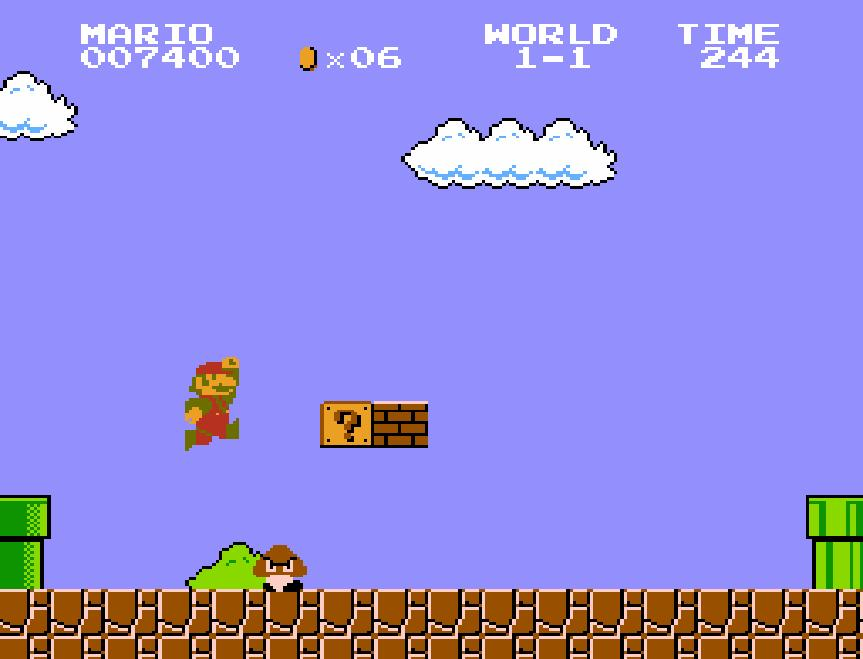big_mario: (183, 354, 240, 452)
